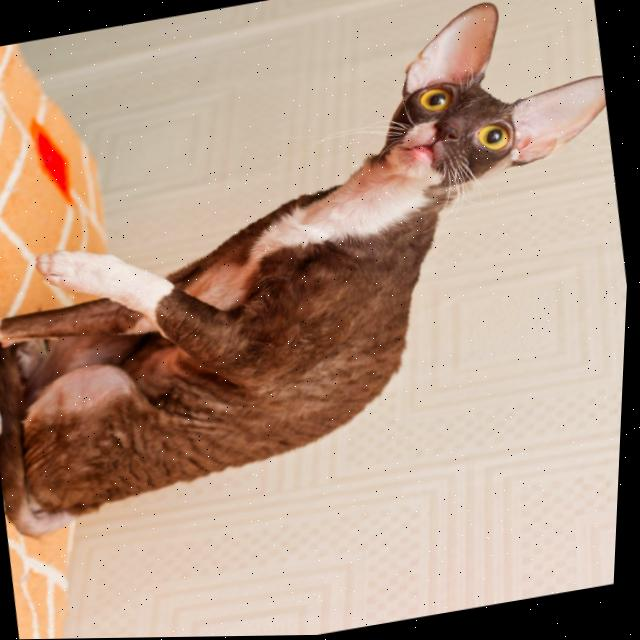Cornish Rex: (0, 0, 640, 547)
